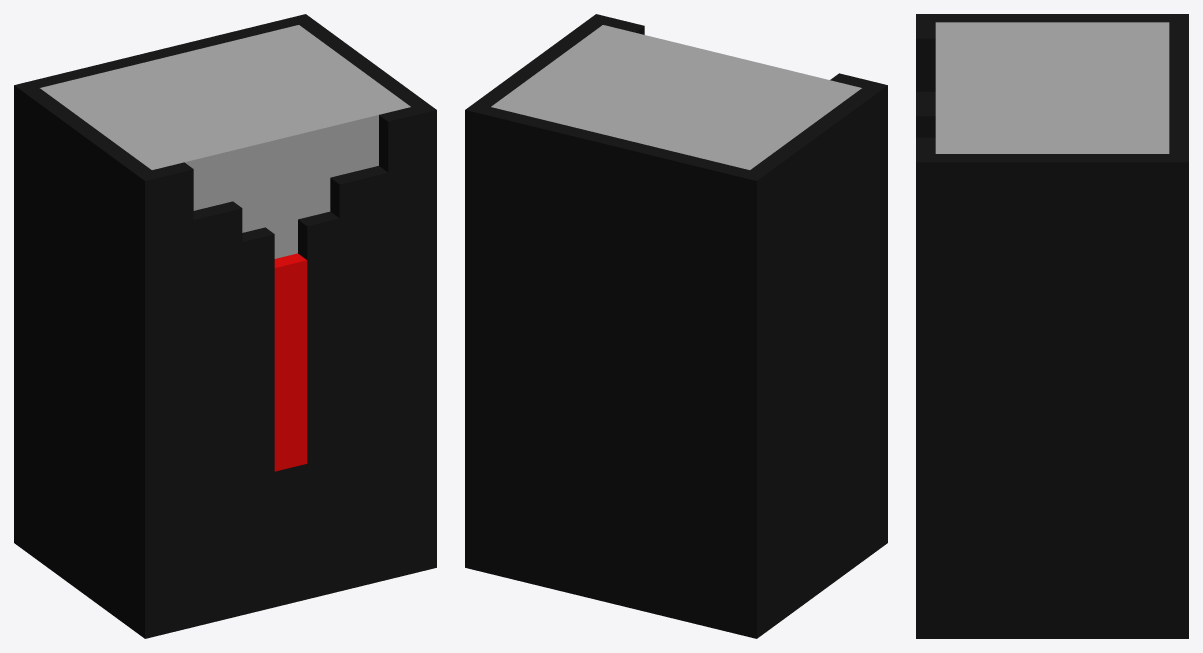
The model's file is pecho.obj.
The picture shows the model from 3 angles, left to right: view 1: azimuth 30°, elevation 25°; view 2: azimuth 150°, elevation 25°; view 3: azimuth 270°, elevation 25°; orthographic projection. The views are drawn at different scales.
Bounding box in the file's own units: 1.8 × 2.7 × 1.4.
1 material, 1 textured.
